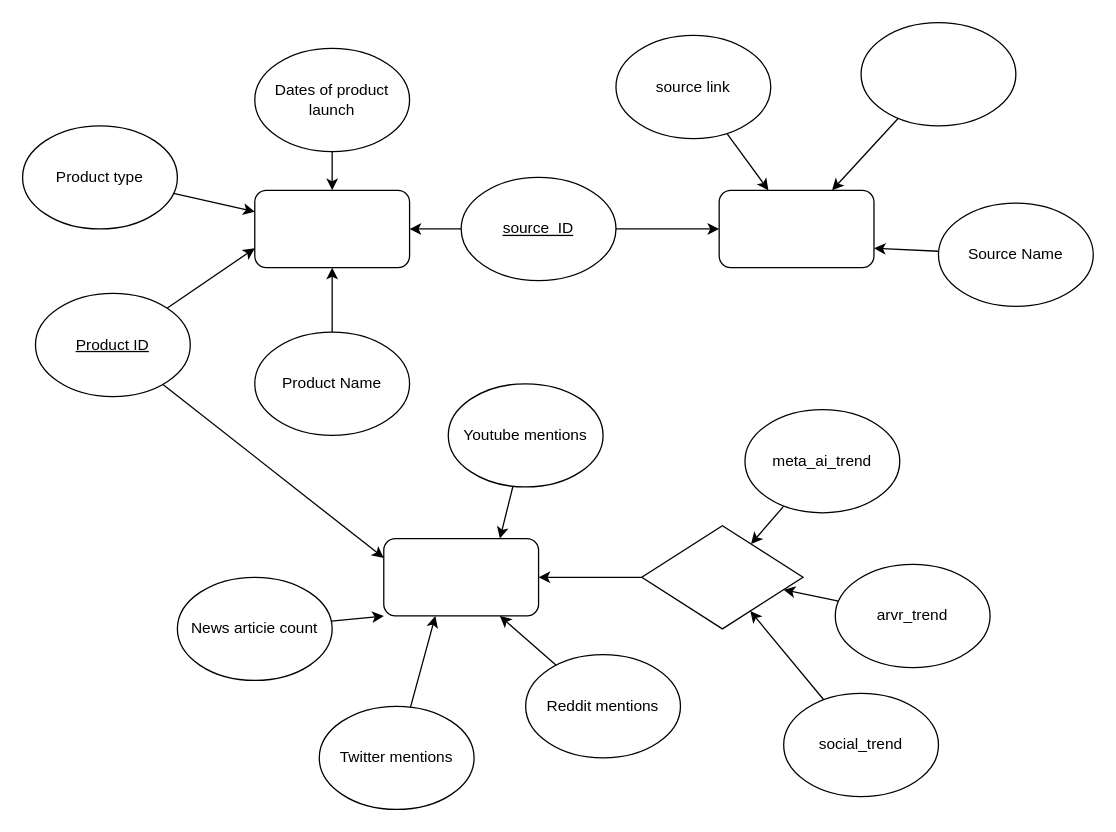
Some shapes in this 1116 by 832 pixel diagram are drawn without their labels. Here are the shapes that lost their labels. From the top down, the centre of each, then its label:
At point (331, 228): "Product".
At point (796, 228): "Source".
At point (460, 576): "Search records".
At point (721, 576): "Google Trends".
